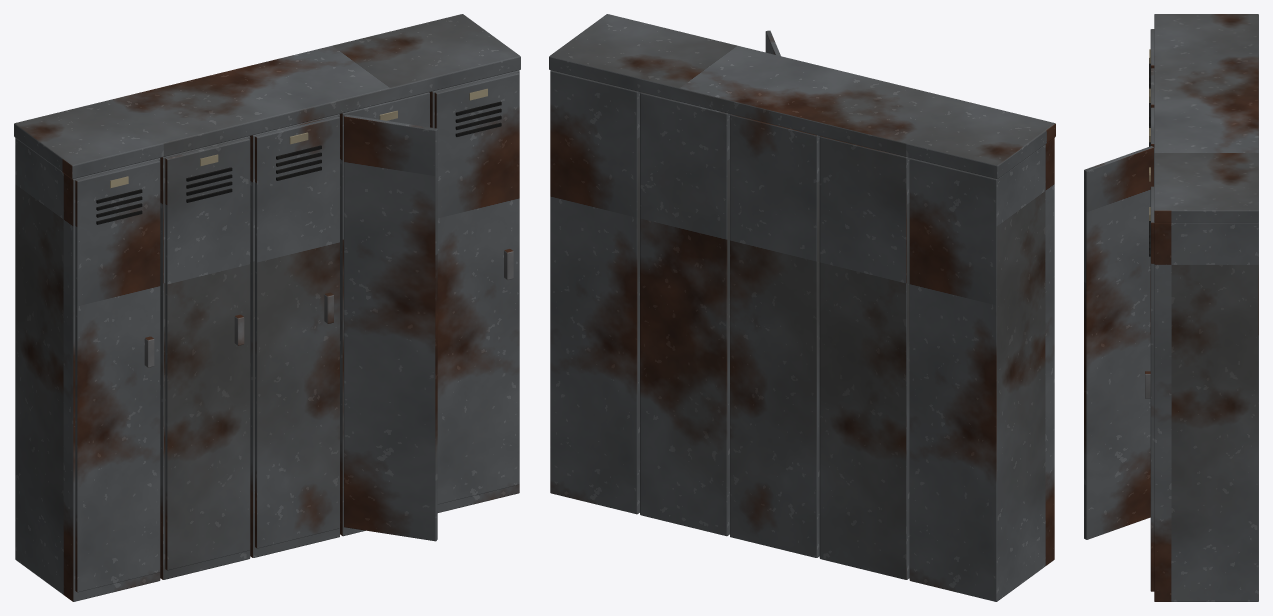
Rendered from S04_school_locker_row.glb.
The picture shows the model from 3 angles, left to right: view 1: azimuth 30°, elevation 25°; view 2: azimuth 150°, elevation 25°; view 3: azimuth 270°, elevation 25°; orthographic projection. The views are drawn at different scales.
Visible parts, largest first — view 1: S04_school_locker_row; view 2: S04_school_locker_row; view 3: S04_school_locker_row.
Part boxes in pixels (x1=…): S04_school_locker_row: x1=14, y1=14, x2=520, y2=601; S04_school_locker_row: x1=549, y1=14, x2=1055, y2=601; S04_school_locker_row: x1=1084, y1=14, x2=1258, y2=601.
Bounding box in the file's own units: 2 × 1.86 × 0.7513.
4 materials, 4 textured.
